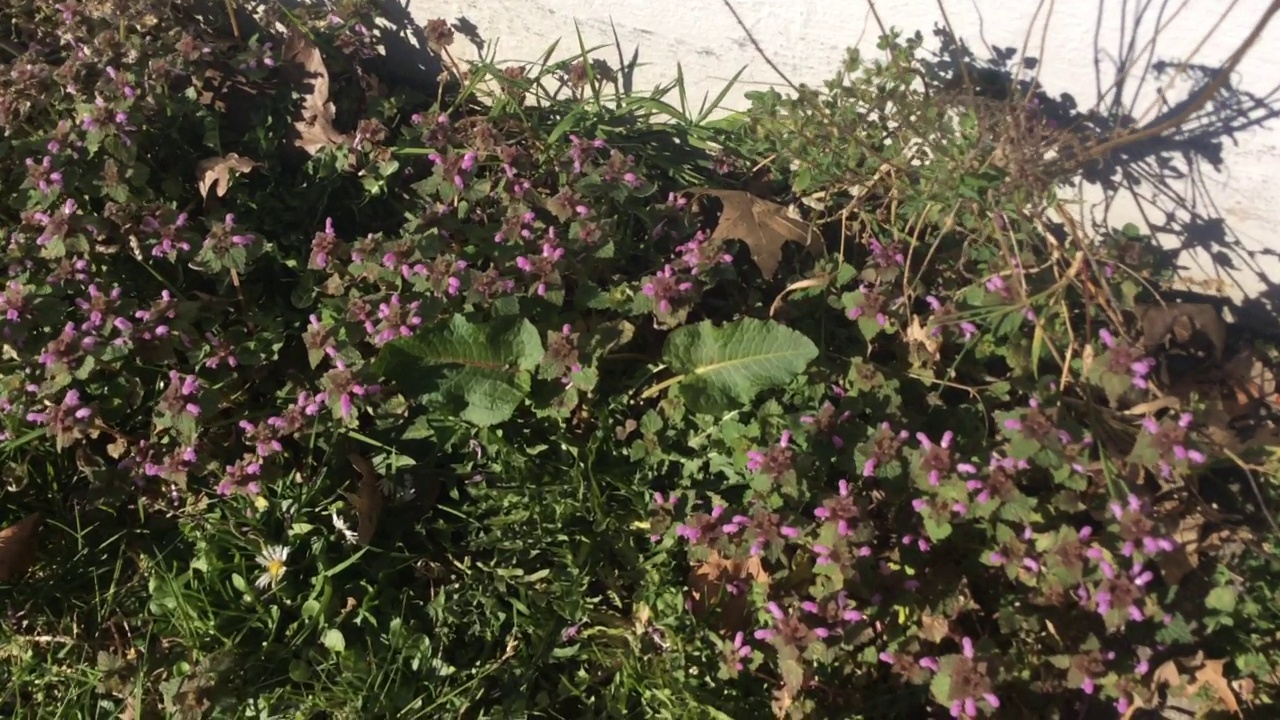rumex: (352, 313, 819, 428)
